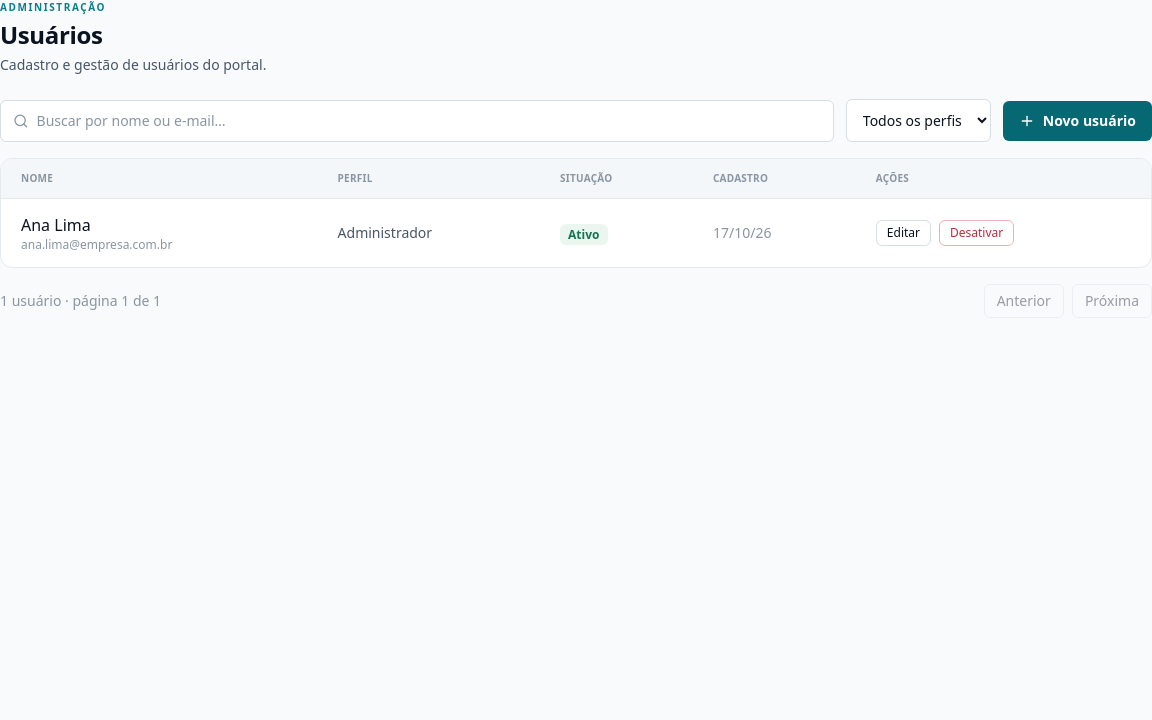
Scenario: AdminUsuariosPage (F1.3) › mostra erro no campo e-mail quando a API responde EMAIL_DUPLICADO (409)
Click the button "Novo usuário".
click(1077, 120)  # box [1003,100,1151,140]
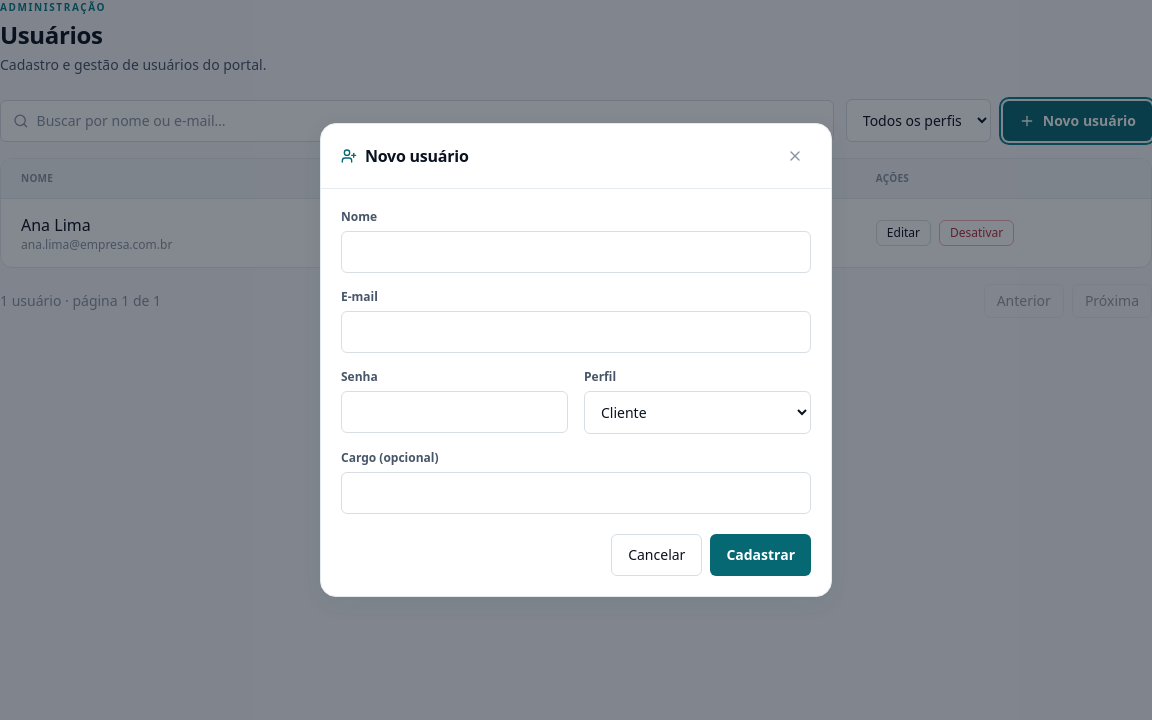
Type "Repetida" into the field labelled "Nome".
click(576, 252); type("Repetida")  # box [341,231,811,273]
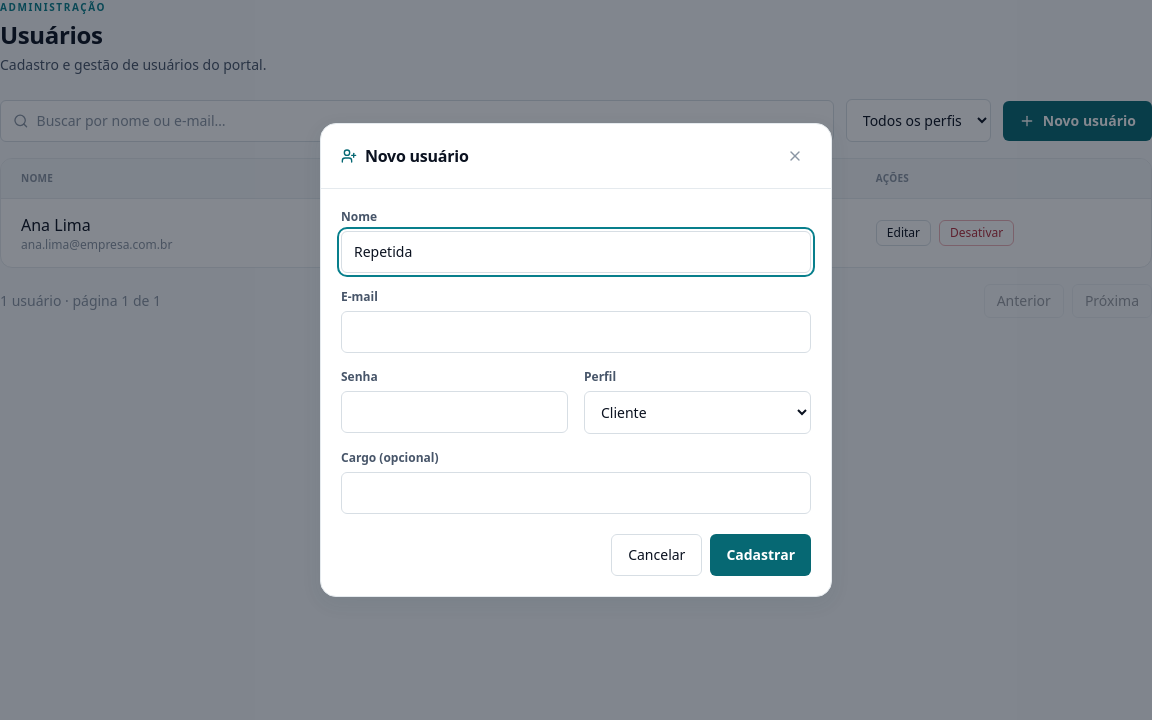
Type "ana.lima@empresa.com.br" into the field labelled "E-mail".
click(576, 332); type("ana.lima@empresa.com.br")  # box [341,311,811,353]
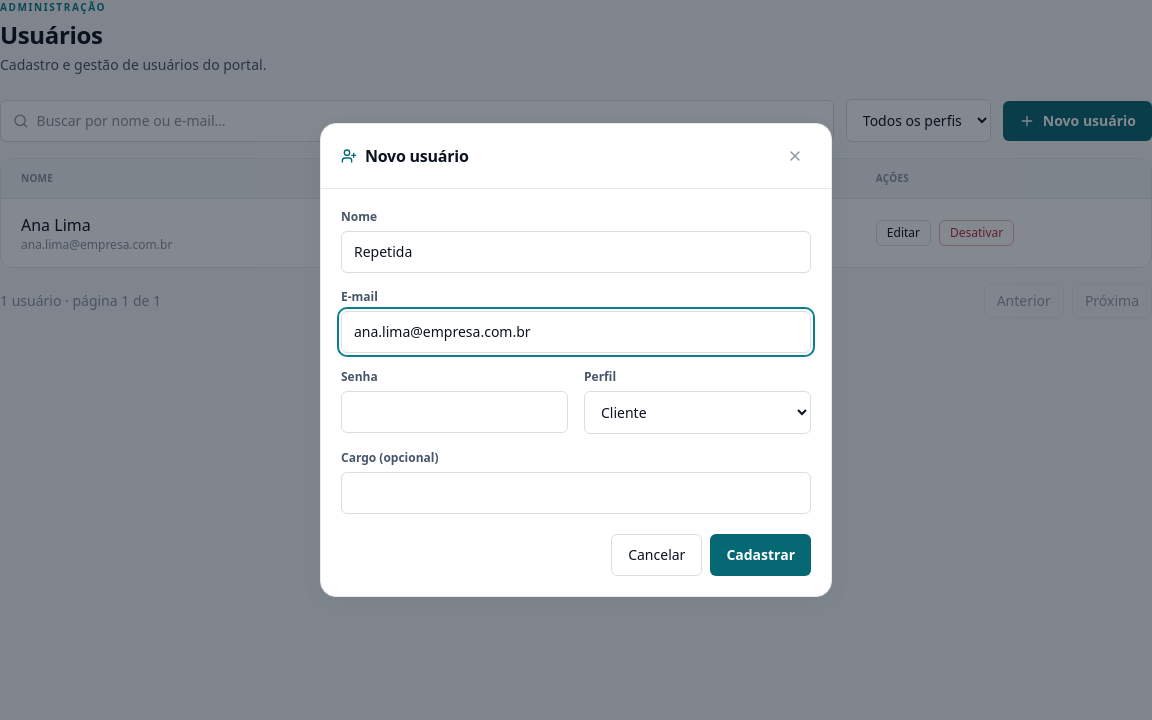
Type "senha-super-ok" into the password field labelled "Senha".
click(454, 412); type("senha-super-ok")  # box [341,391,568,433]
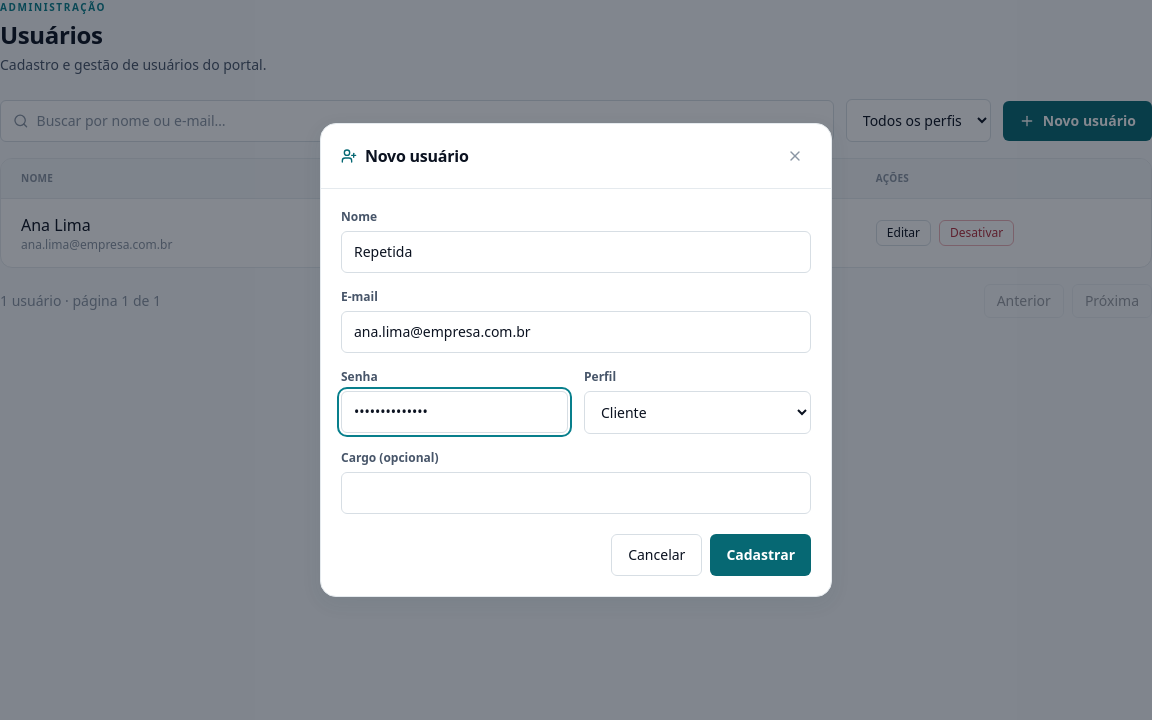
Click the button "Cadastrar".
click(761, 555)  # box [710,534,811,576]
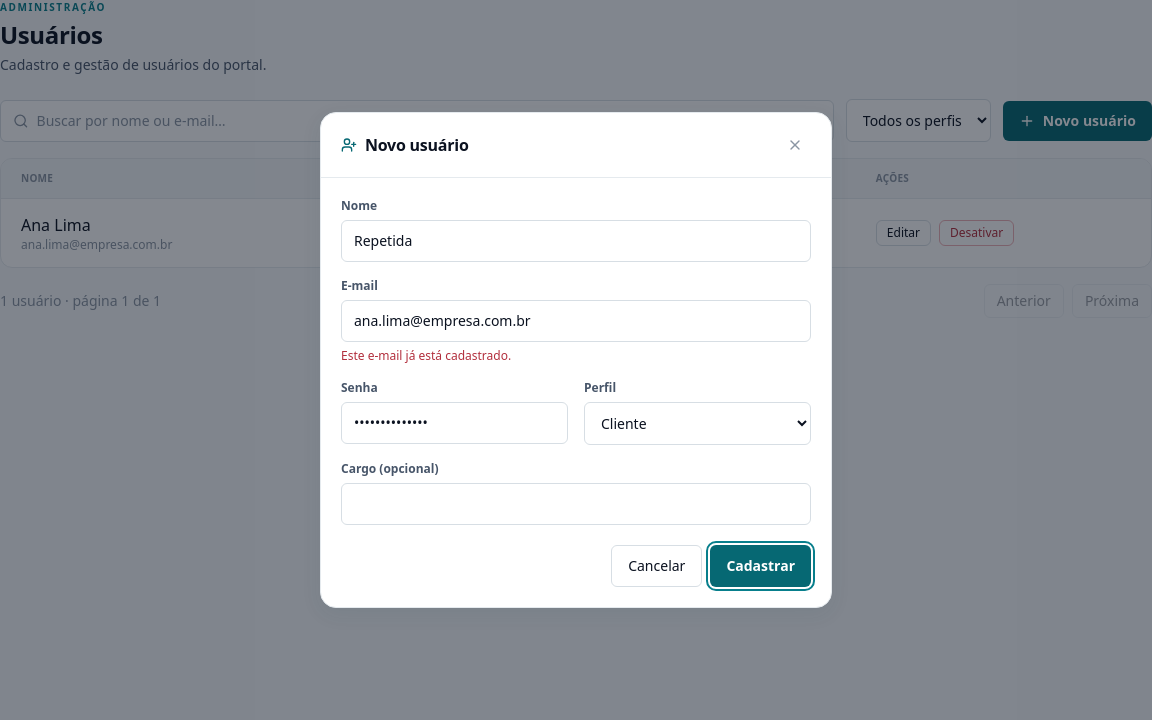
Expected: the text "Este e-mail já está cadastrado." is shown, [341,347,511,364]
